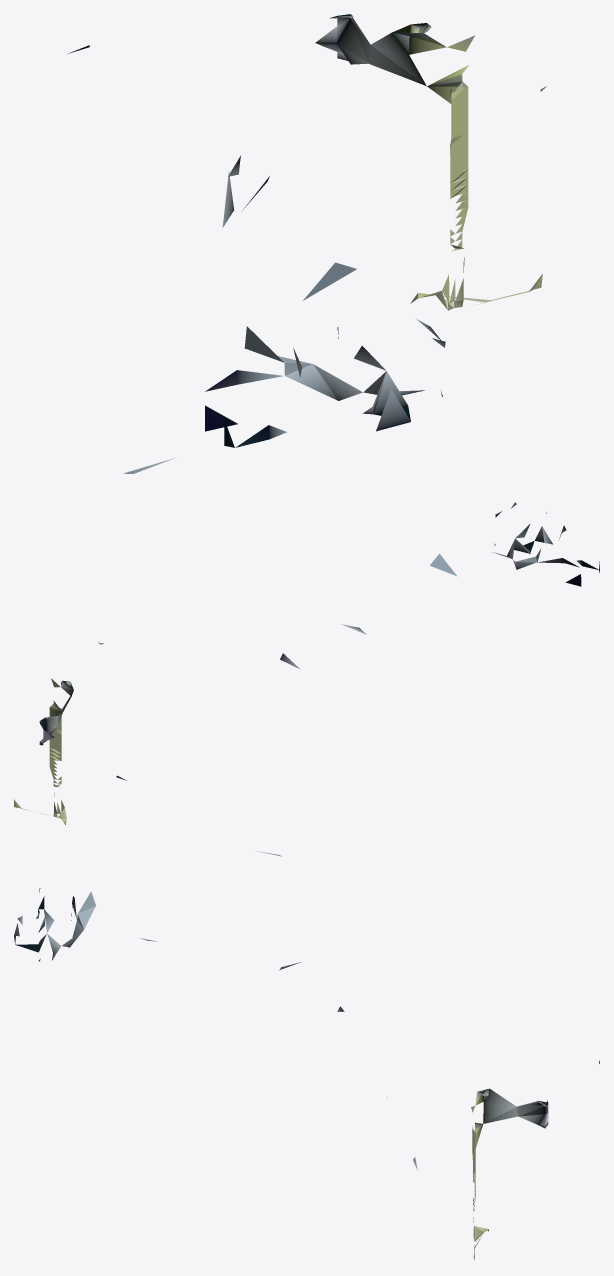
The model's file is building.glb.
3 renders of one model, top to bottom at view 1: azimuth 30°, elevation 25°; view 2: azimuth 150°, elevation 25°; view 3: azimuth 270°, elevation 25°, orthographic. The views are drawn at different scales.
Visible parts, largest first — view 1: building_raw.ply; view 2: building_raw.ply; view 3: building_raw.ply.
Boxes of the visible parts, x1=… form: building_raw.ply: x1=68, y1=14, x2=546, y2=473; building_raw.ply: x1=14, y1=502, x2=599, y2=856; building_raw.ply: x1=14, y1=888, x2=599, y2=1260.
Size of the model in its own units: 10.74 by 6.31 by 14.51.
